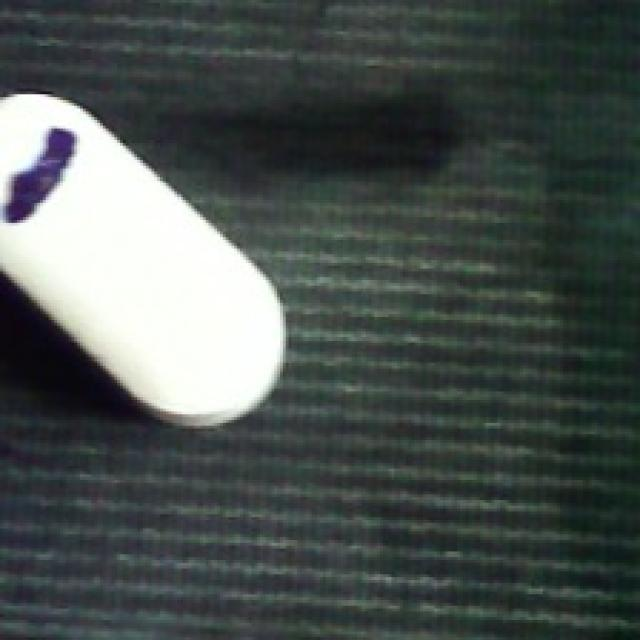defected: (0, 88, 291, 434)
